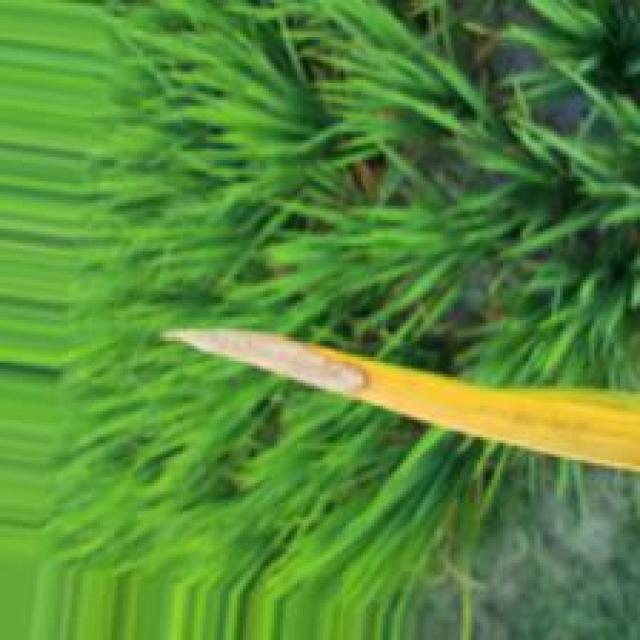Leaf_Scald: (165, 331, 388, 394)
